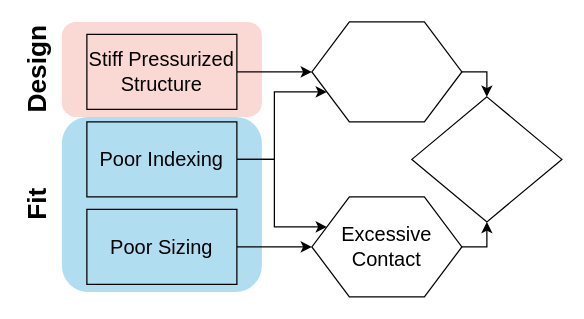
Some shapes in this 584 by 319 pixel diagram are drawn without their labels. The centre of each missing label's shape, as x and y in pixels:
"Increased Exertion" belongs at pixel 386 71.
"Spacesuit Injury" belongs at pixel 486 159.
